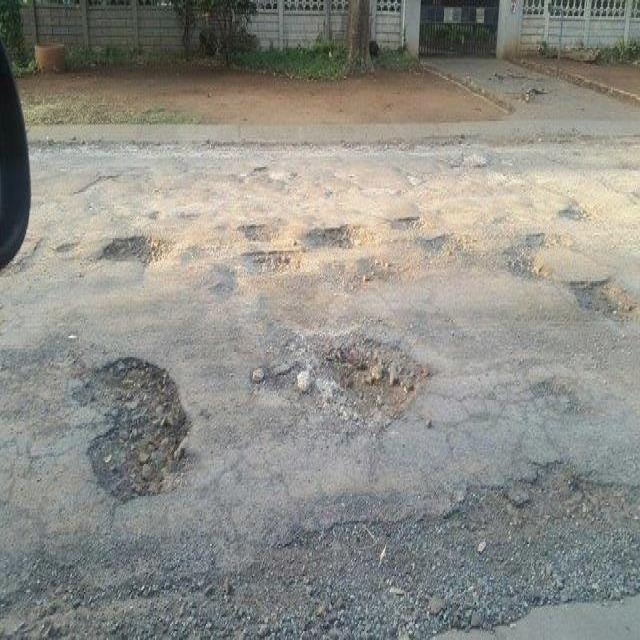jalan retak: (426, 369, 592, 458), (0, 404, 80, 511), (0, 326, 92, 402), (584, 159, 639, 219)
lubang: (207, 455, 640, 640), (0, 520, 242, 640), (66, 361, 198, 514), (315, 329, 428, 430), (243, 340, 334, 431), (74, 158, 155, 199), (571, 277, 634, 329), (295, 215, 377, 251), (97, 228, 167, 270), (201, 221, 237, 298), (499, 242, 552, 290), (40, 221, 88, 274), (440, 142, 500, 182), (551, 186, 603, 228), (391, 155, 440, 199), (227, 161, 300, 190), (419, 228, 465, 272), (241, 245, 299, 278), (233, 217, 289, 242), (523, 226, 570, 252), (385, 215, 424, 231)
